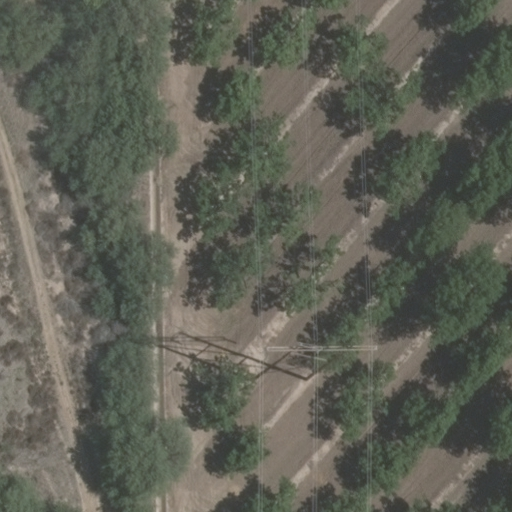TT: (266, 340, 385, 368)
